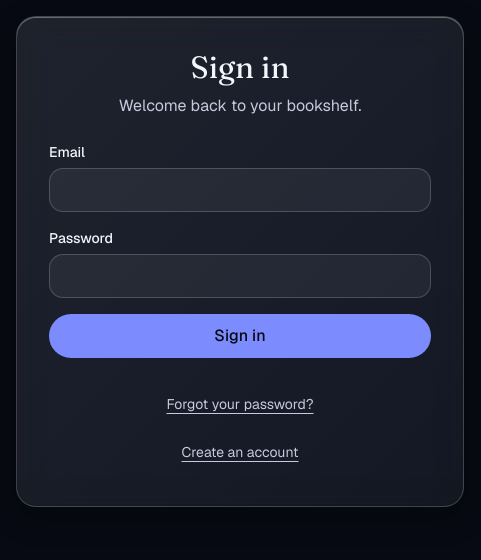
it: AuthForm › shows the API's error for wrong credentials
The width and height of the screenshot is (481, 560).
Type "reader@example.com" into the field labelled "Email" at {"x": 240, "y": 190}, box [49,168,431,212]
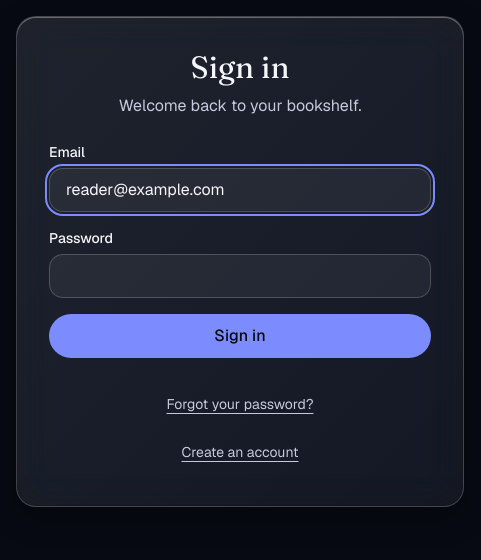
Type "wrong-password" into the password field labelled "Password" at {"x": 240, "y": 276}, box [49,254,431,298]
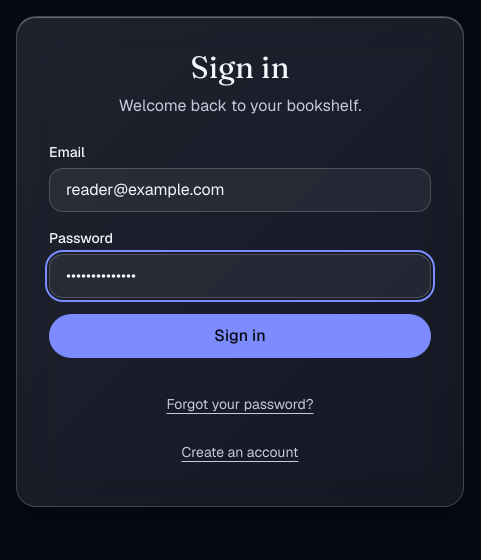
Click the button "Sign in" at {"x": 240, "y": 336}, box [49,314,431,358]
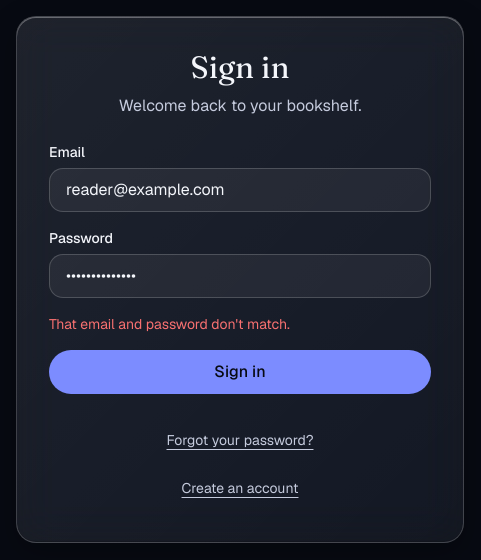
Result: the message reads "That email and password don't match." at [49,315,290,333]
